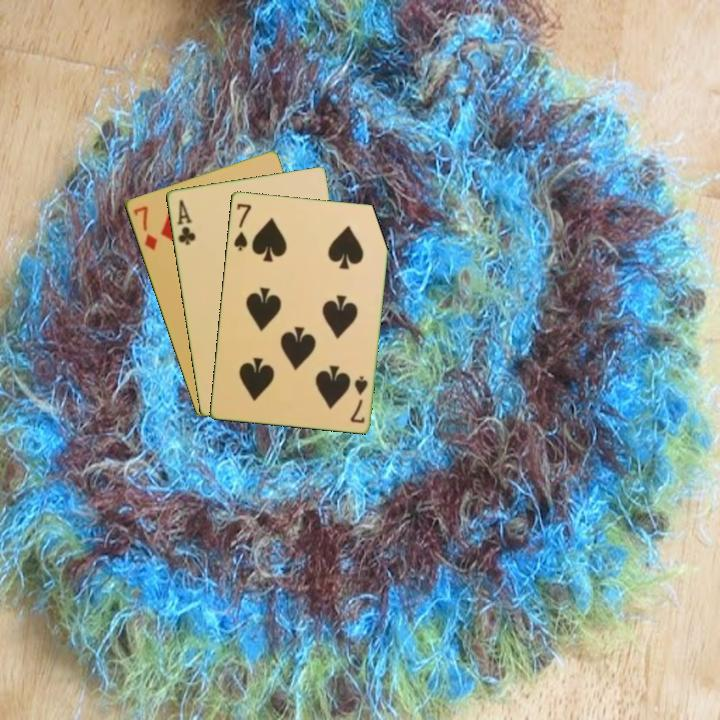7d: (130, 202, 160, 253)
7s: (230, 199, 254, 253), (346, 372, 370, 426)
Ac: (173, 196, 198, 248)
